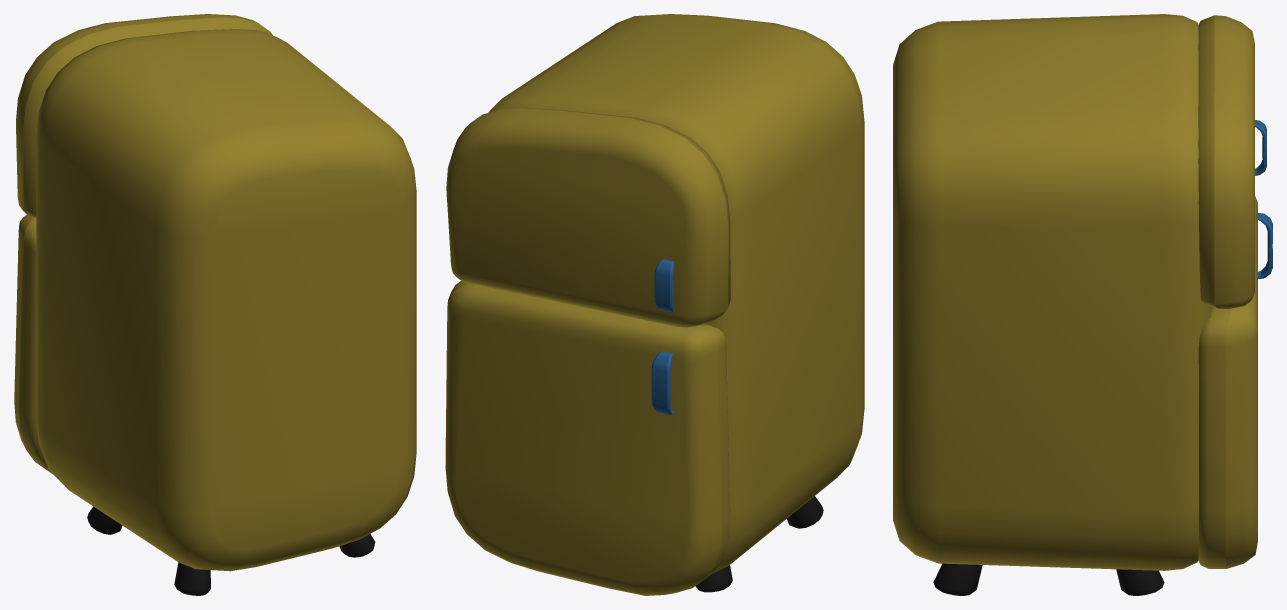
Rendered from Refrigerator.FBX.
3 views of the same model, side by side, from view 1: azimuth 30°, elevation 25°; view 2: azimuth 150°, elevation 25°; view 3: azimuth 270°, elevation 25° (orthographic). The views are drawn at different scales.
Parts seen in each view (by area): view 1: Refrigerator; view 2: Refrigerator; view 3: Refrigerator.
Part boxes in pixels (x1=…): Refrigerator: x1=14, y1=14, x2=416, y2=595; Refrigerator: x1=445, y1=14, x2=864, y2=595; Refrigerator: x1=893, y1=14, x2=1272, y2=595.
Bounding box in the file's own units: 607 × 712 × 1030.
